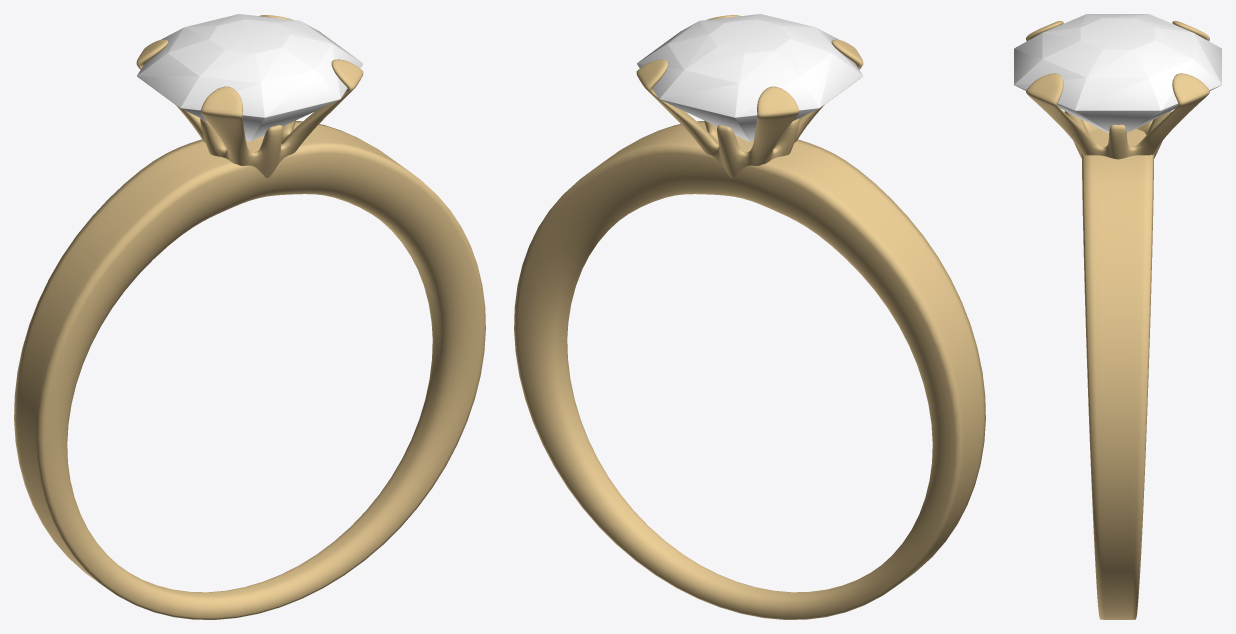
Rendered from Diamant.gltf.
3 renders of one model, left to right at view 1: azimuth 30°, elevation 25°; view 2: azimuth 150°, elevation 25°; view 3: azimuth 270°, elevation 25°, orthographic.
Parts seen in each view (by area): view 1: Circle.001, Circle, Circle.002; view 2: Circle.001, Circle, Circle.002; view 3: Circle.001, Circle, Circle.002.
Part boxes in pixels (bbox=[...]): Circle.001: bbox=[14, 121, 485, 619]; Circle: bbox=[137, 14, 362, 141]; Circle.002: bbox=[136, 15, 363, 178]; Circle.001: bbox=[514, 121, 985, 619]; Circle: bbox=[637, 14, 862, 141]; Circle.002: bbox=[636, 15, 863, 178]; Circle.001: bbox=[1082, 128, 1153, 619]; Circle: bbox=[1014, 14, 1221, 132]; Circle.002: bbox=[1026, 20, 1209, 159].
Bounding box in the file's own units: 0.2153 × 0.2631 × 0.0881.
